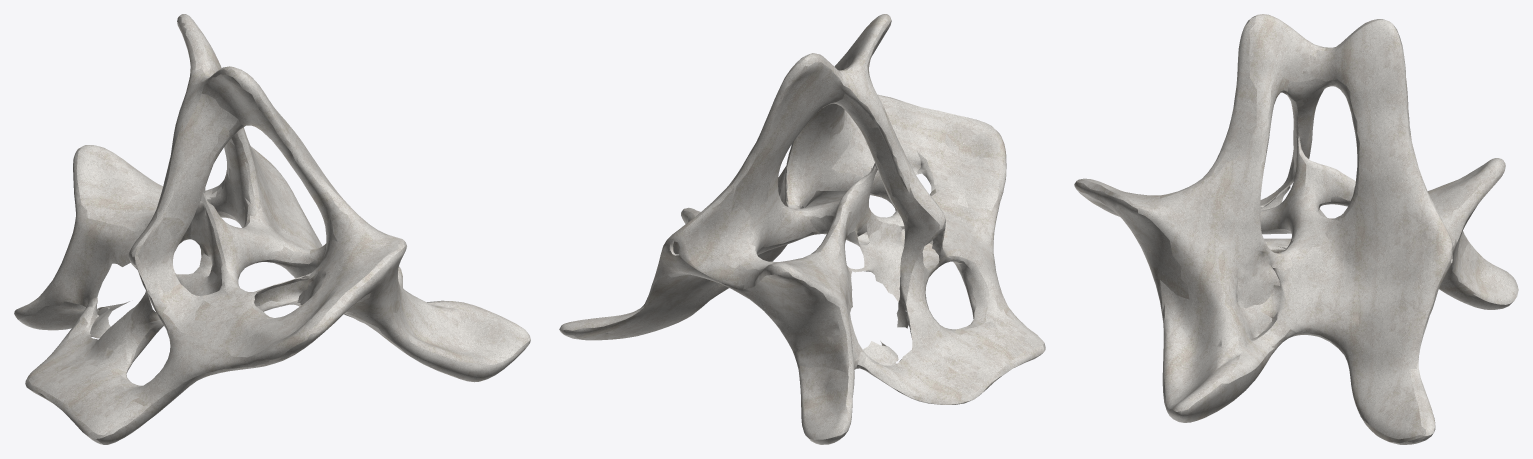
3 renders of one model, left to right at view 1: azimuth 30°, elevation 25°; view 2: azimuth 150°, elevation 25°; view 3: azimuth 270°, elevation 25°, orthographic. The views are drawn at different scales.
Visible parts, largest first — view 1: 16_035; view 2: 16_035; view 3: 16_035.
Boxes of the visible parts, left/top/right/bottom form: 16_035: left=14, top=14, right=530, bottom=444; 16_035: left=559, top=14, right=1045, bottom=444; 16_035: left=1074, top=14, right=1518, bottom=444.
Bounding box in the file's own units: 19.63 × 15.82 × 19.56.
Materials: 1 (1 with a texture image).
